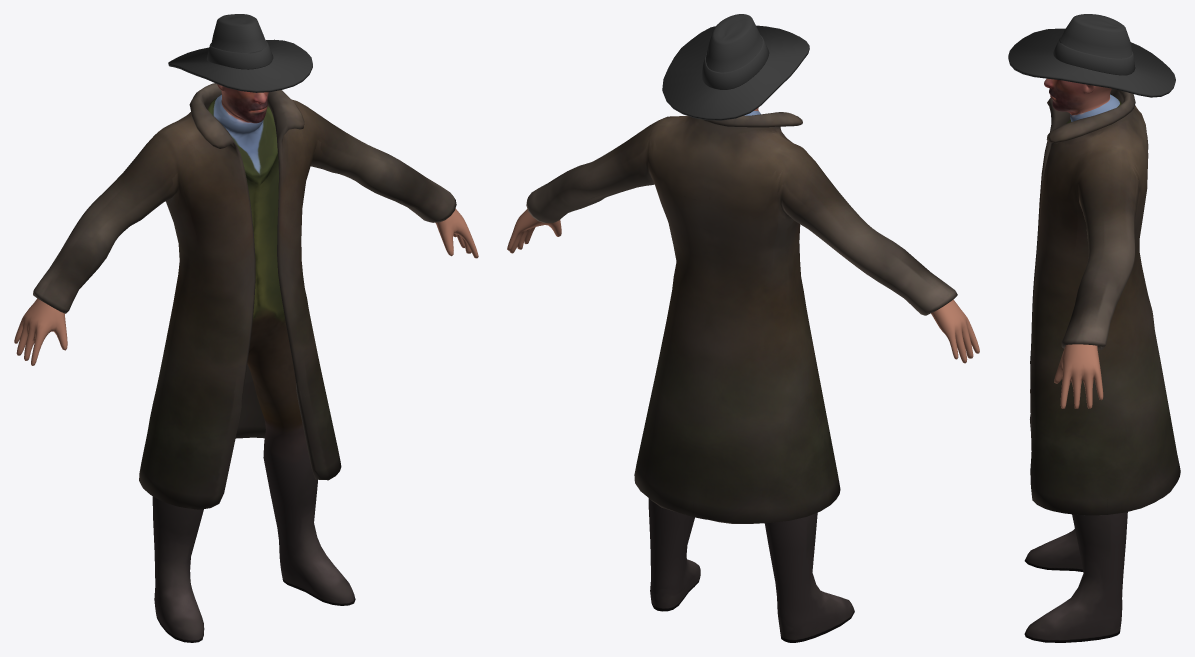
File: Hunter_Animation_DrawBow.fbx
3 renders of one model, left to right at view 1: azimuth 30°, elevation 25°; view 2: azimuth 150°, elevation 25°; view 3: azimuth 270°, elevation 25°, orthographic.
Parts seen in each view (by area): view 1: Plash. lowpoly, LP, шляпа 2; view 2: Plash. lowpoly, LP, шляпа 2; view 3: Plash. lowpoly, LP, шляпа 2.
Part boxes in pixels (<box>): Plash. lowpoly: <box>33,83,456,509</box>; LP: <box>14,84,478,642</box>; шляпа 2: <box>168,14,312,92</box>; Plash. lowpoly: <box>526,112,957,523</box>; LP: <box>507,107,979,642</box>; шляпа 2: <box>662,14,809,120</box>; Plash. lowpoly: <box>1030,89,1180,515</box>; LP: <box>1024,78,1127,642</box>; шляпа 2: <box>1008,14,1175,97</box>.
Size of the model in its own units: 513 by 639 by 171.
